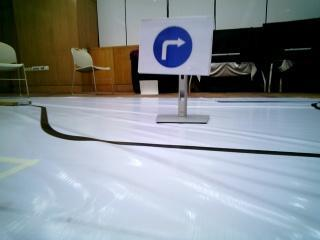right: (140, 20, 210, 77)
